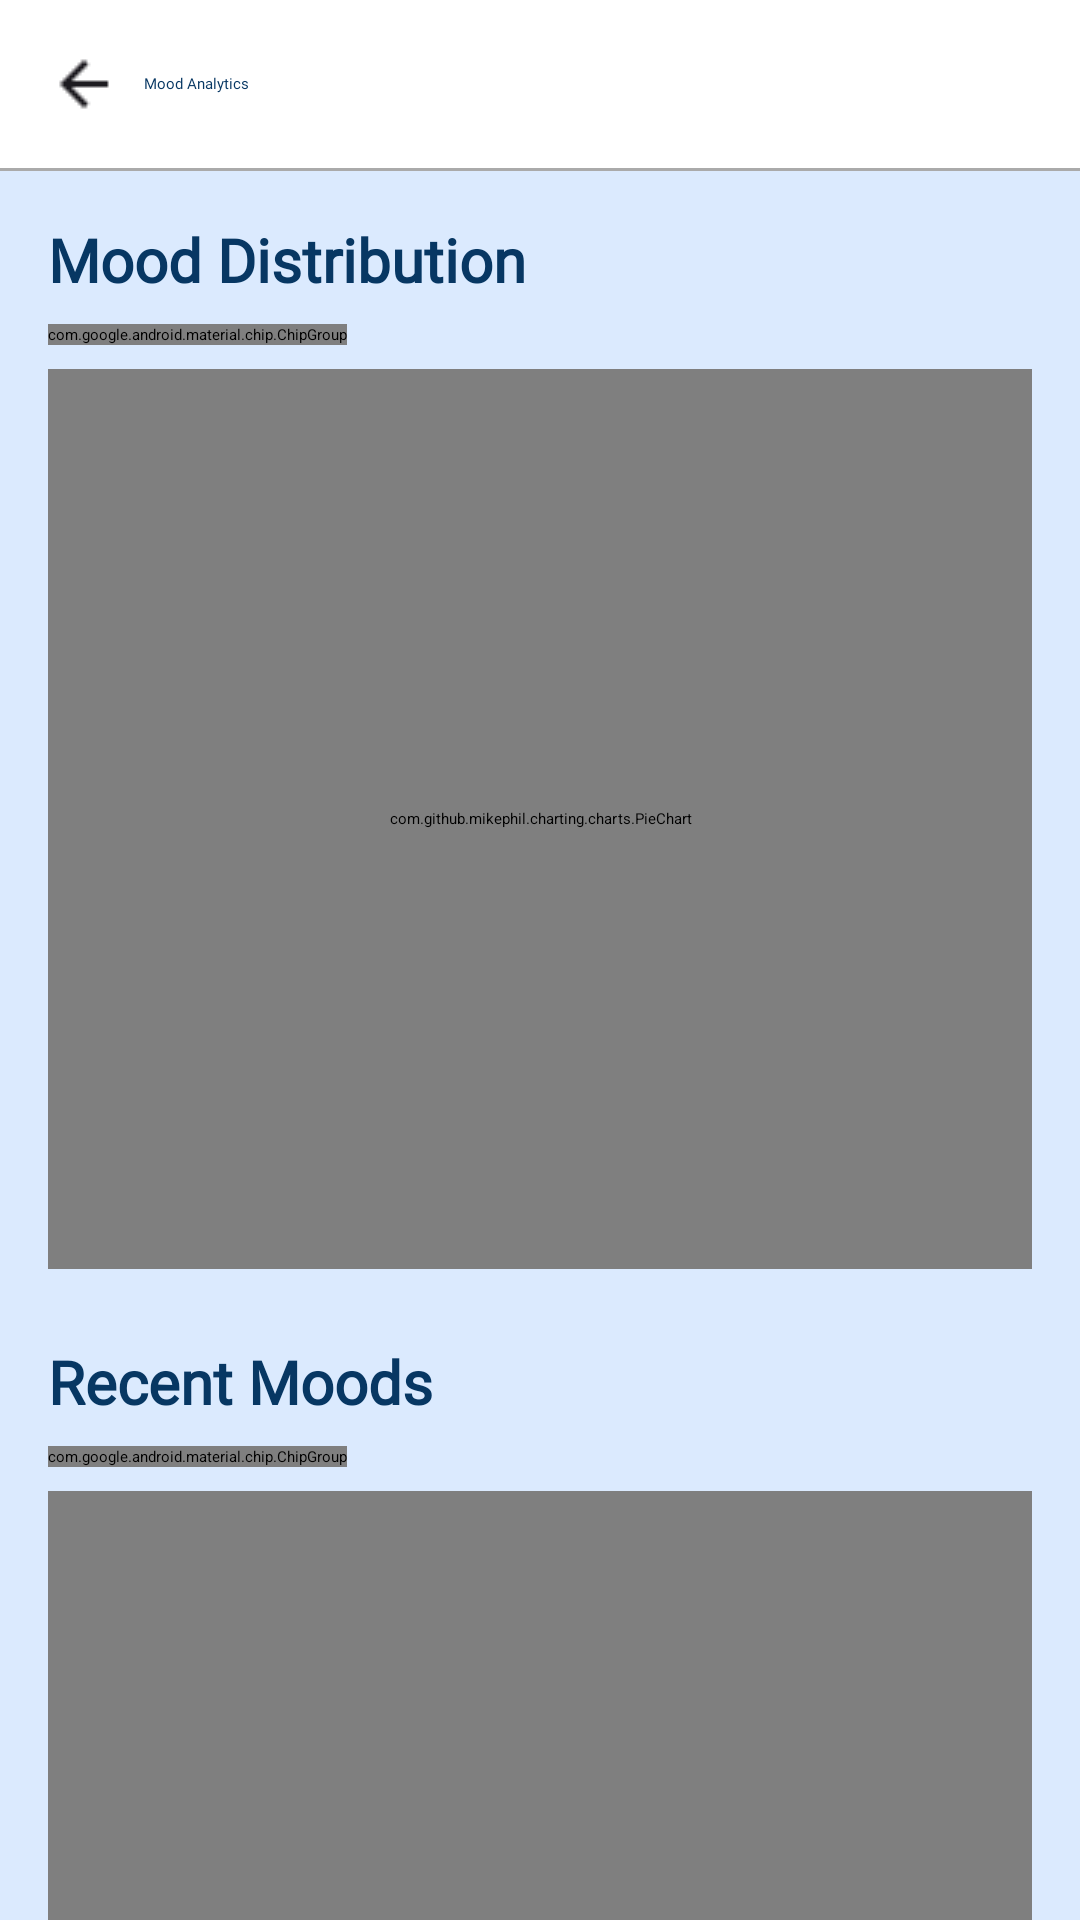

Where to tap for icons on this 1080 x 1920 app screen, as [x,y]:
back: [84,84]
